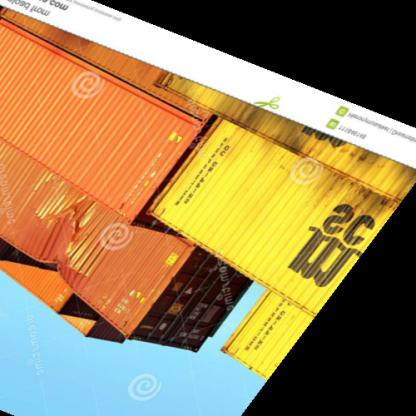Damage: (33, 206, 101, 282)
